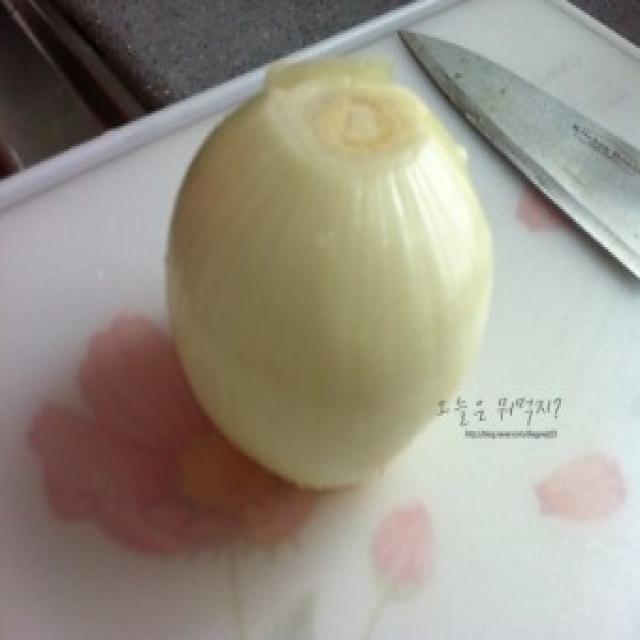onion: (148, 37, 519, 494)
